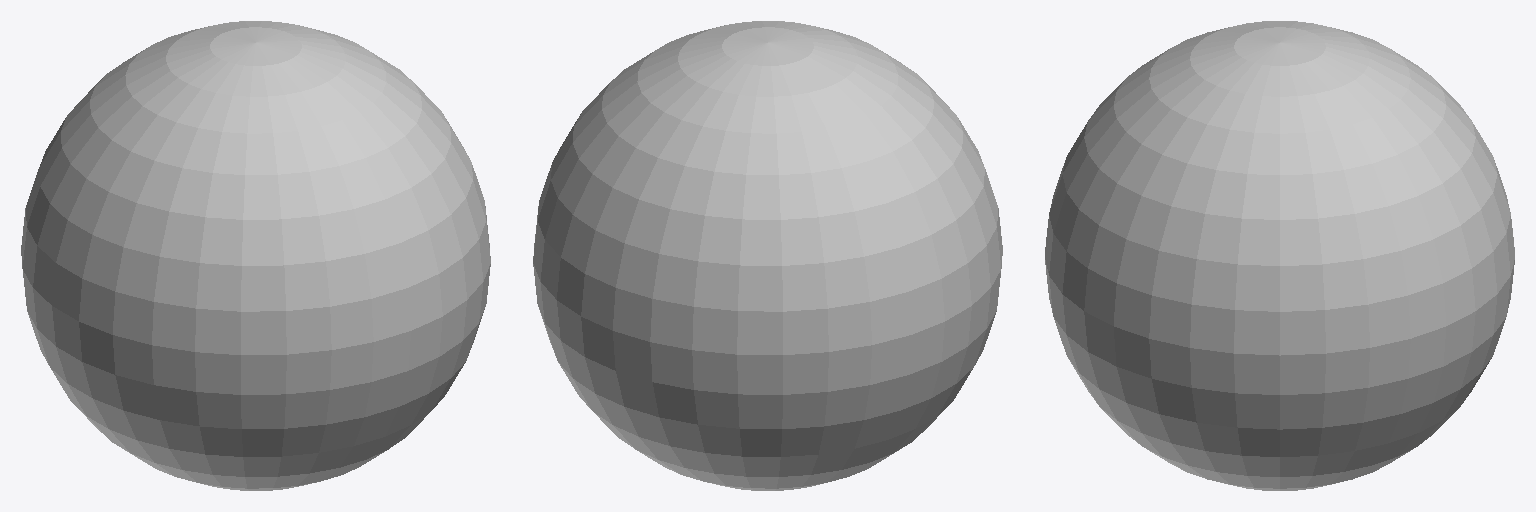
File: trigger.obj
3 views of the same model, side by side, from view 1: azimuth 30°, elevation 25°; view 2: azimuth 150°, elevation 25°; view 3: azimuth 270°, elevation 25° (orthographic).
Visible parts, largest first — view 1: Sphere; view 2: Sphere; view 3: Sphere.
Boxes of the visible parts, x1=… form: Sphere: x1=21, y1=21, x2=490, y2=490; Sphere: x1=533, y1=21, x2=1002, y2=490; Sphere: x1=1045, y1=21, x2=1514, y2=490.
Bounding box in the file's own units: 0.5425 × 0.5425 × 0.5425.